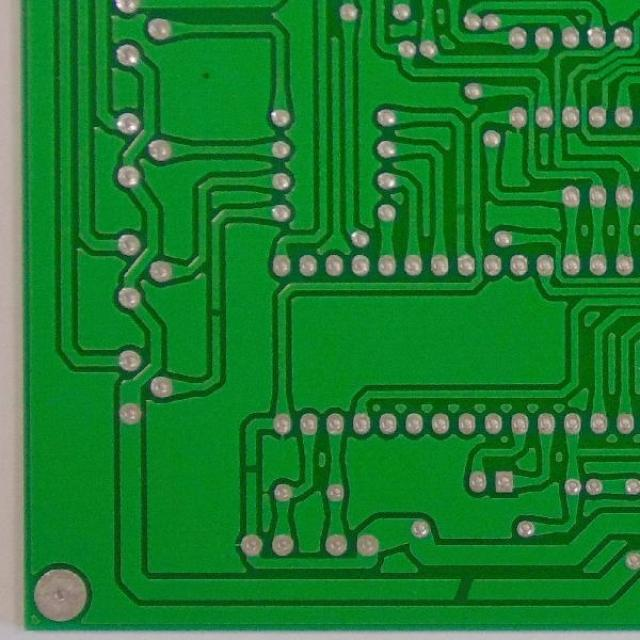open_circuit: (447, 574, 477, 604), (243, 459, 259, 478), (209, 305, 223, 322)
